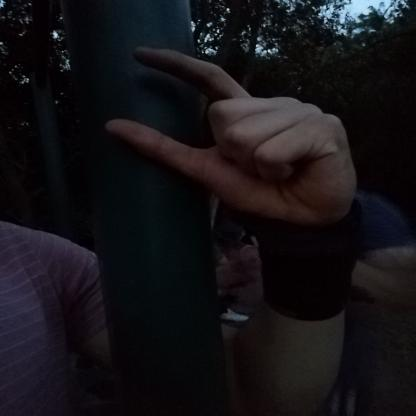DELL: (84, 40, 367, 236)
